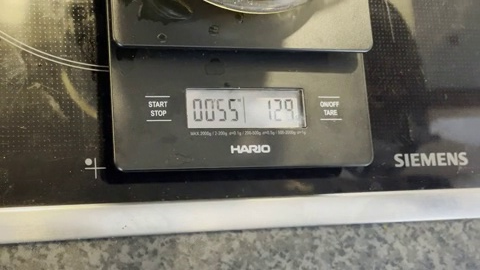display: (187, 88, 300, 128)
